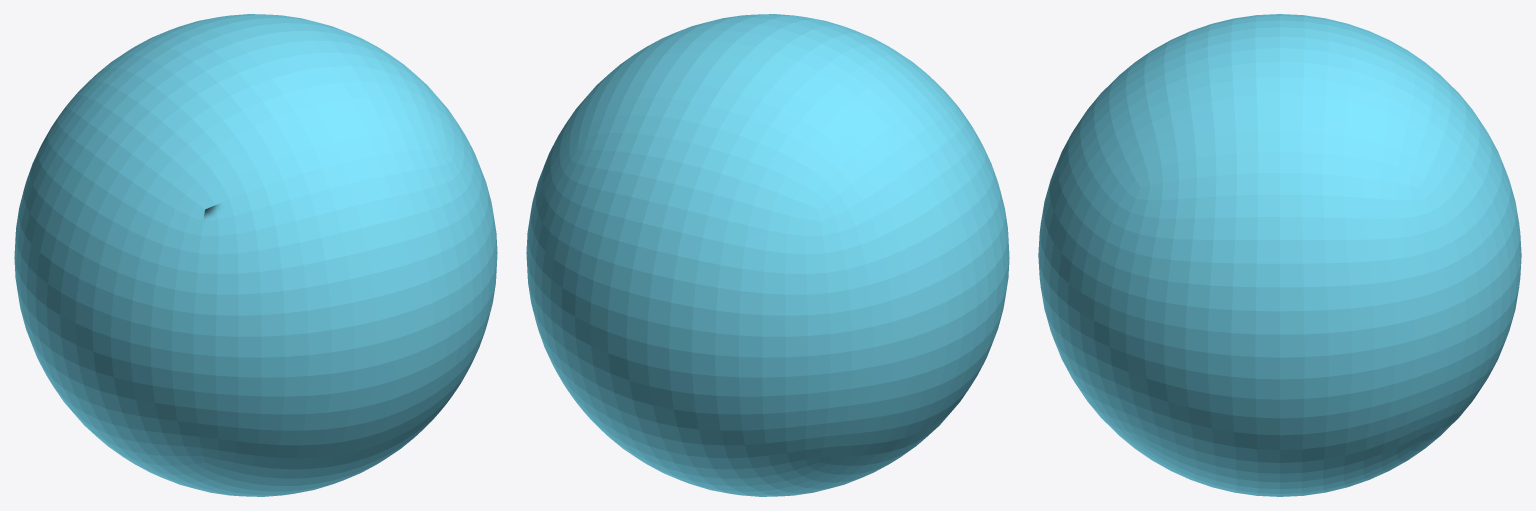
The model's file is ballgltf.gltf.
The picture shows the model from 3 angles, left to right: view 1: azimuth 30°, elevation 25°; view 2: azimuth 150°, elevation 25°; view 3: azimuth 270°, elevation 25°; orthographic projection.
Visible parts, largest first — view 1: Cube; view 2: Cube; view 3: Cube.
Part boxes in pixels (left/top/right/bottom): Cube: left=14, top=14, right=497, bottom=496; Cube: left=526, top=14, right=1009, bottom=496; Cube: left=1038, top=14, right=1521, bottom=496.
Bounding box in the file's own units: 1.71 × 1.71 × 1.71.
Materials: 1 (1 with a texture image).
